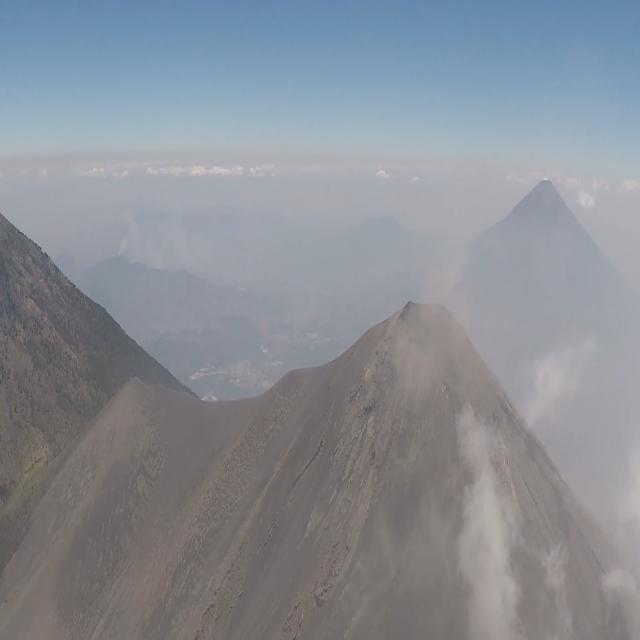Summit: (263, 290, 567, 542)
